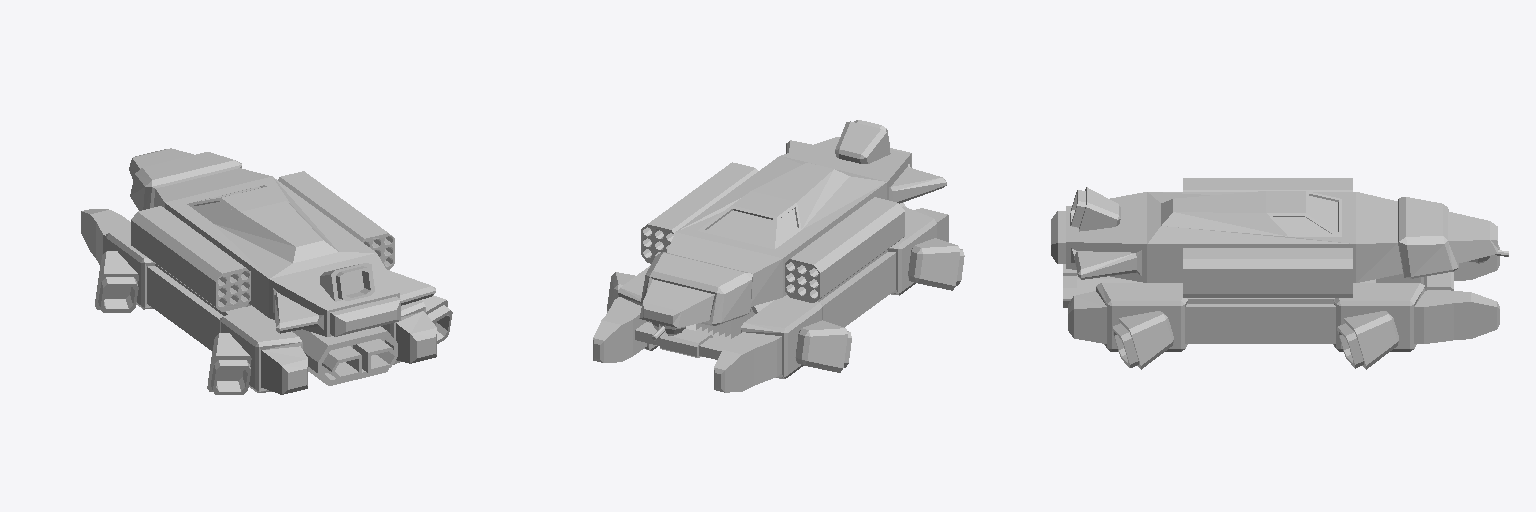
Rendered from phoenix.obj.
3 renders of one model, left to right at view 1: azimuth 30°, elevation 25°; view 2: azimuth 150°, elevation 25°; view 3: azimuth 270°, elevation 25°, orthographic.
Parts seen in each view (by area): view 1: Polygon_default_default; view 2: Polygon_default_default; view 3: Polygon_default_default.
Part boxes in pixels (x1,y1,x2,y2): Polygon_default_default: (81, 148, 452, 394); Polygon_default_default: (593, 120, 964, 392); Polygon_default_default: (1051, 178, 1508, 369).
Bounding box in the file's own units: 76.34 × 37.33 × 128.